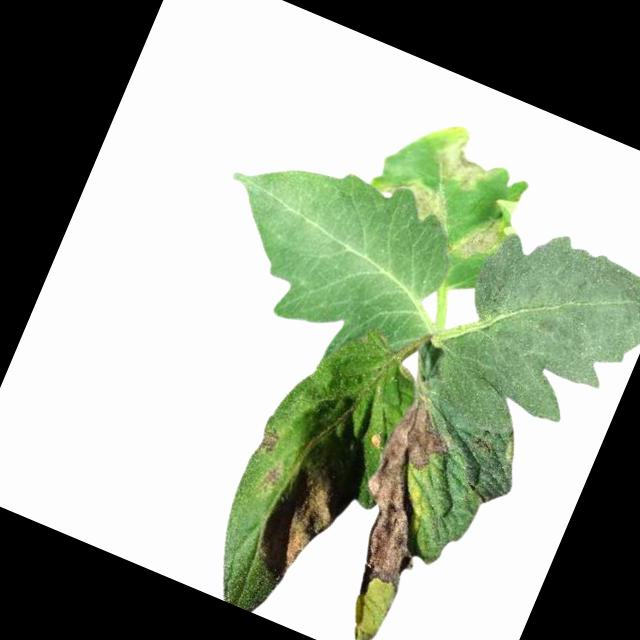Late_blight: (327, 397, 473, 609), (248, 456, 347, 591), (371, 164, 466, 235), (428, 125, 511, 201), (448, 199, 512, 270), (256, 424, 283, 457), (262, 461, 286, 489)
healthy: (189, 125, 478, 373), (412, 203, 640, 470)
